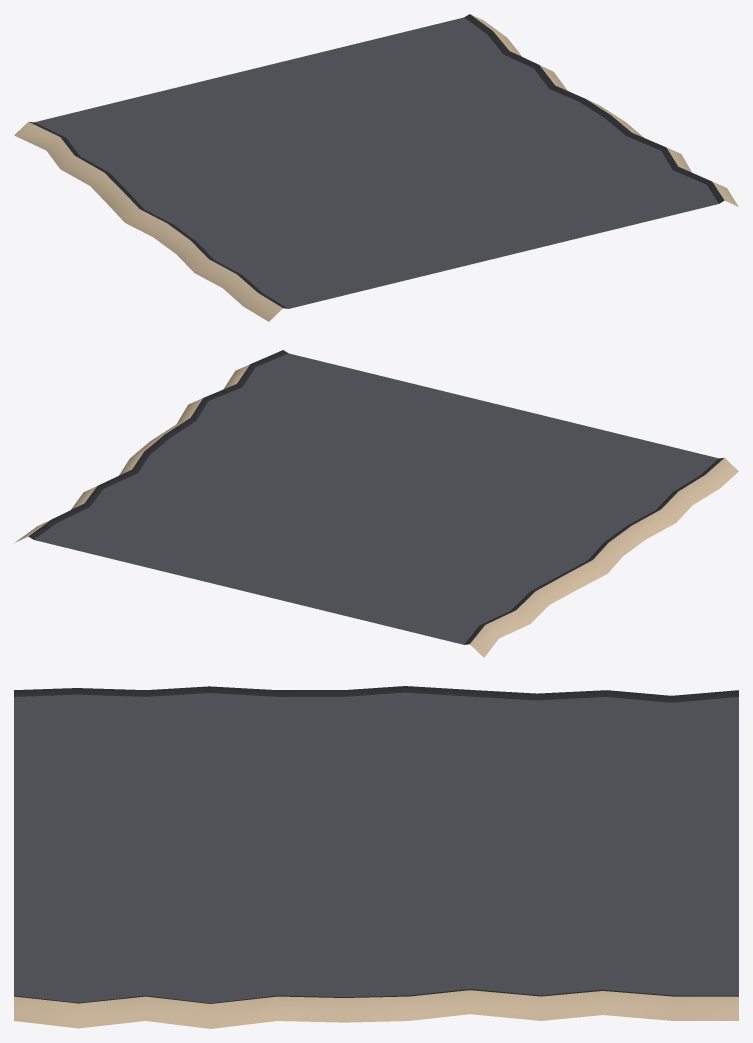
The model's file is sm_road_sb.fbx.
3 views of the same model, one above another, from view 1: azimuth 30°, elevation 25°; view 2: azimuth 150°, elevation 25°; view 3: azimuth 270°, elevation 25° (orthographic). The views are drawn at different scales.
Visible parts, largest first — view 1: sm_roadsb; view 2: sm_roadsb; view 3: sm_roadsb.
Part boxes in pixels (x1,y1,x2,y2): sm_roadsb: (14,14,738,321); sm_roadsb: (15,350,738,657); sm_roadsb: (14,686,738,1028).
Size of the model in its own units: 135 by 2.7 by 122.
1 material, 1 textured.
